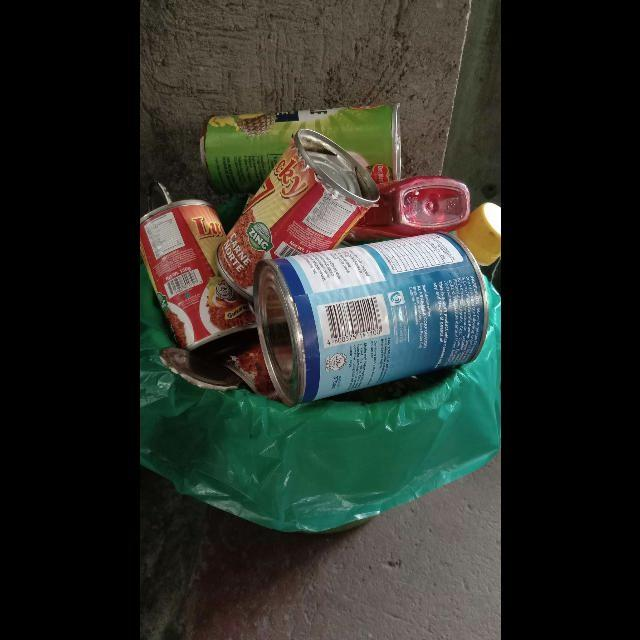aluminum: (253, 231, 489, 407), (214, 127, 379, 301), (199, 104, 404, 200), (139, 198, 260, 347)
